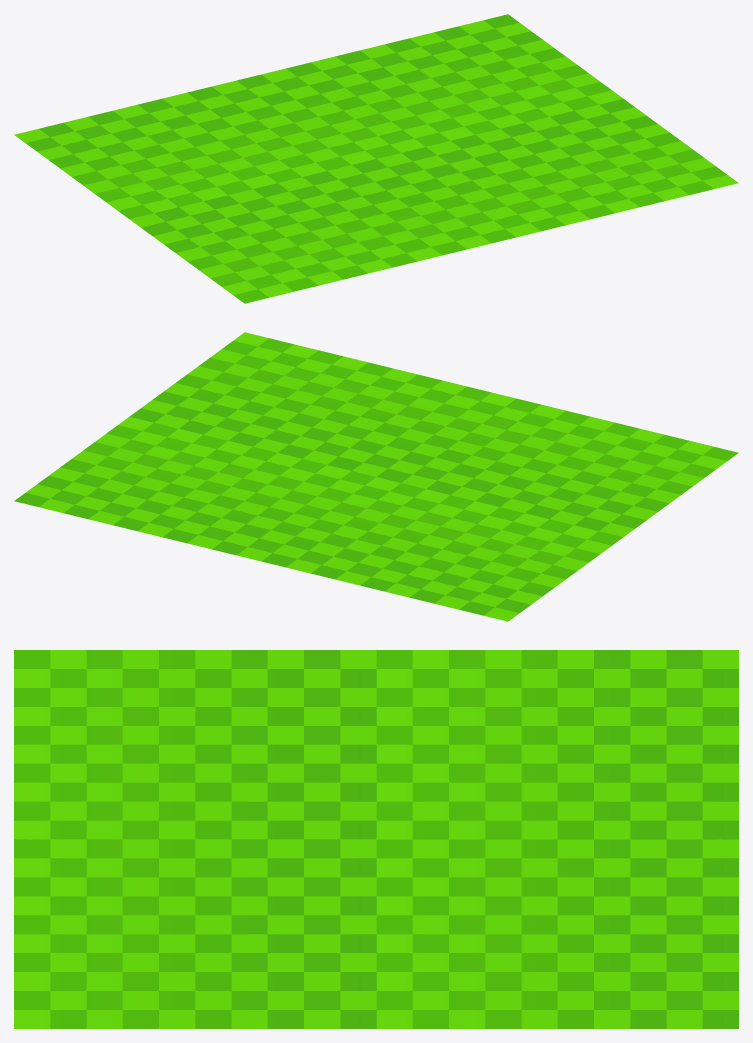
Rendered from Grass.FBX.
The picture shows the model from 3 angles, top to bottom: view 1: azimuth 30°, elevation 25°; view 2: azimuth 150°, elevation 25°; view 3: azimuth 270°, elevation 25°; orthographic projection. The views are drawn at different scales.
Visible parts, largest first — view 1: Grass; view 2: Grass; view 3: Grass.
Part boxes in pixels (x1,y1,x2,y2): Grass: [14, 14, 738, 303]; Grass: [14, 332, 738, 621]; Grass: [14, 650, 738, 1028].
Bounding box in the file's own units: 4518 × 7.99e-05 × 3654.
Materials: 1 (1 with a texture image).
